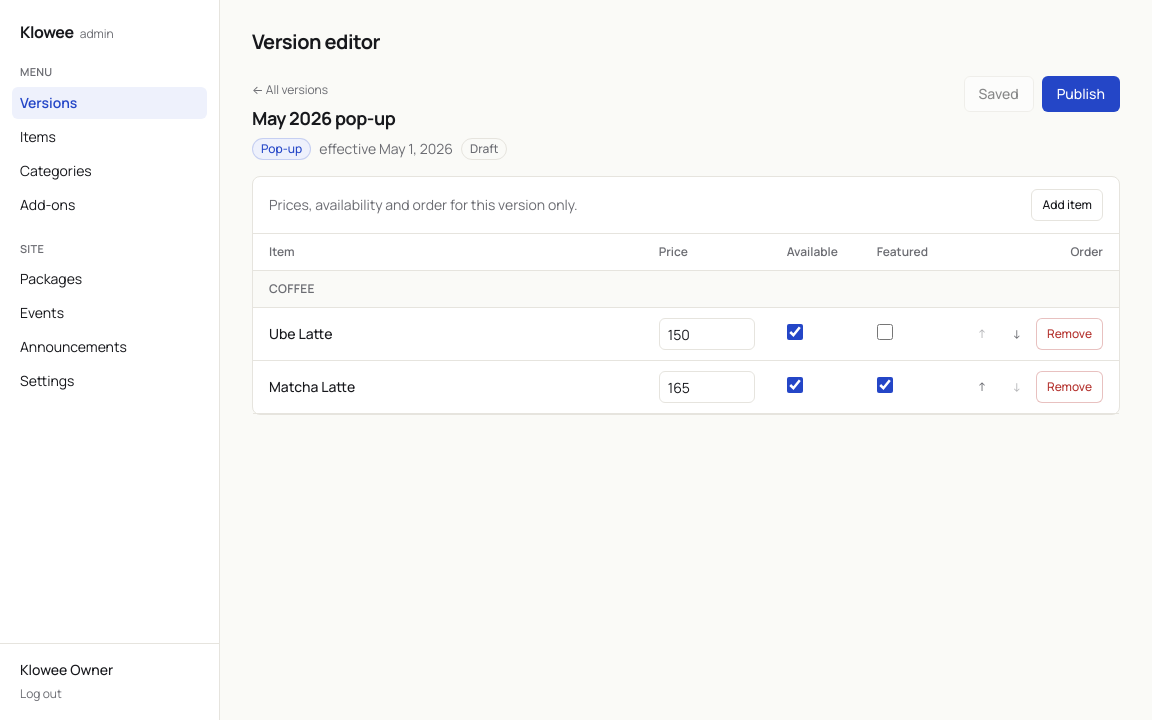
Scenario: VersionEditorPage › sends the whole item list, with the edited price, on save
Replace the text in the number field named "Price for Ube Latte" with "175" at (707, 334), box 659,318 -> 755,350
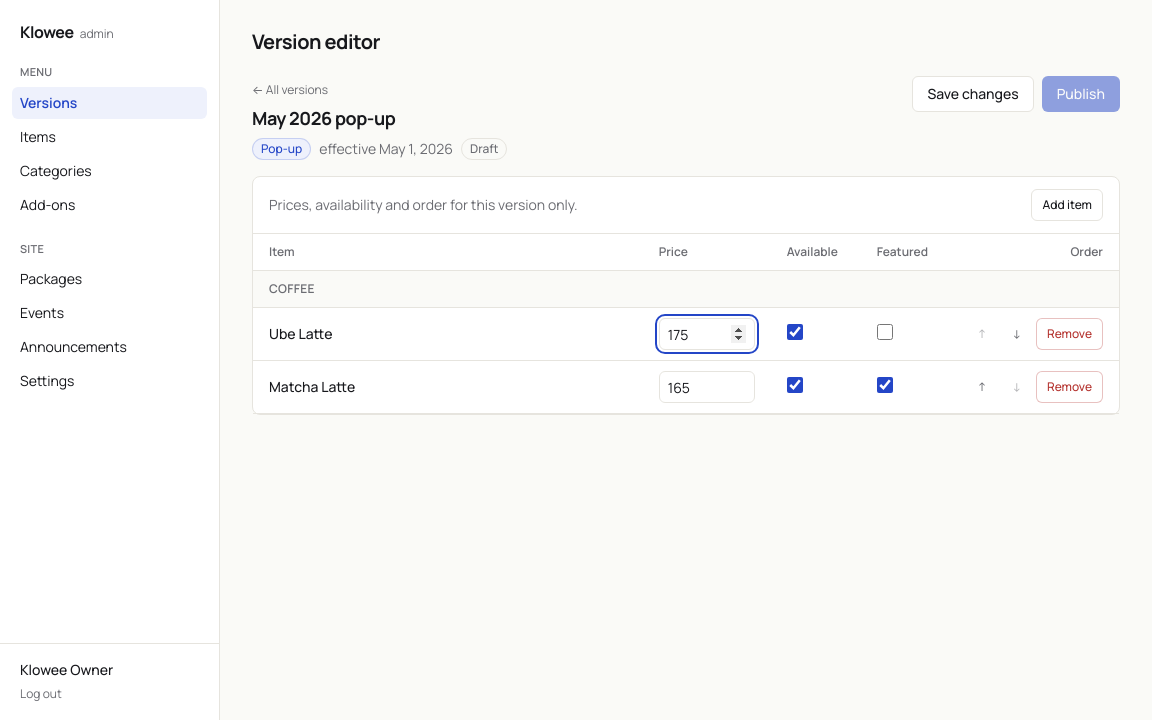
Click the button "Save changes" at (973, 94), box 912,76 -> 1034,112
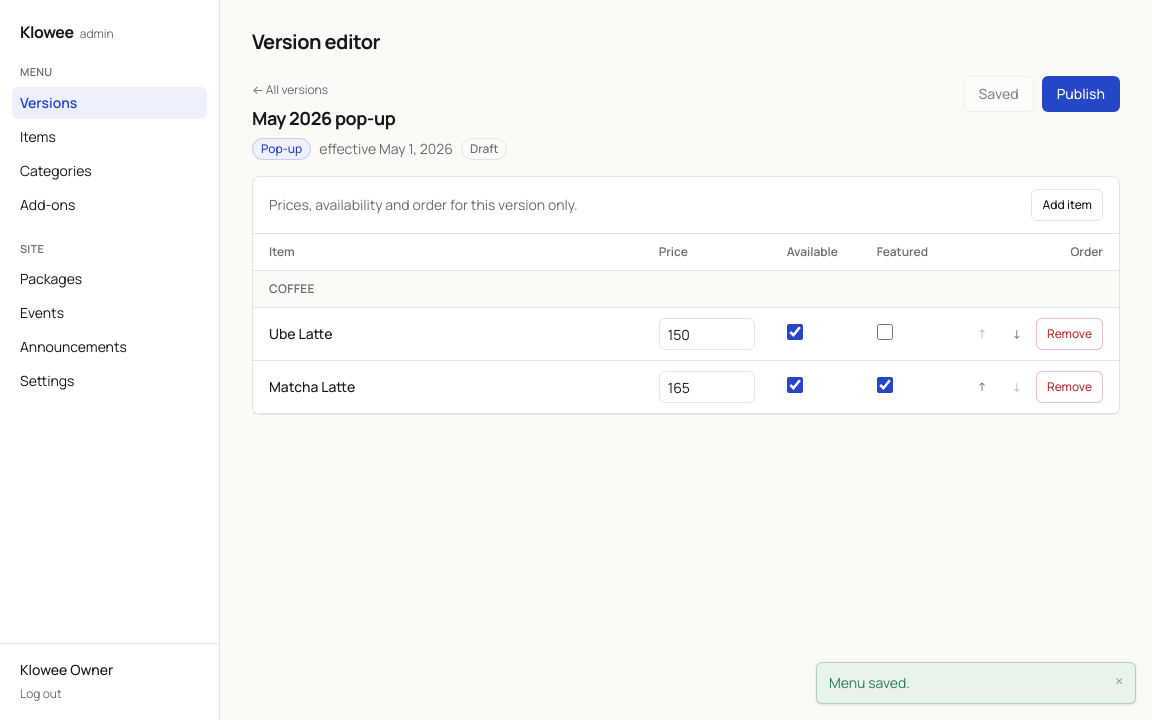
Now the text "Menu saved." is shown, box 829,673 -> 910,692
